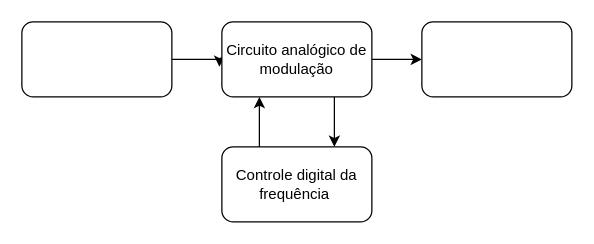
Some shapes in this 594 by 244 pixel diagram are drawn without their labels. The centre of each missing label's shape, as x and y in pixels:
Entrada: point (96, 59)
Saída: point (496, 59)
